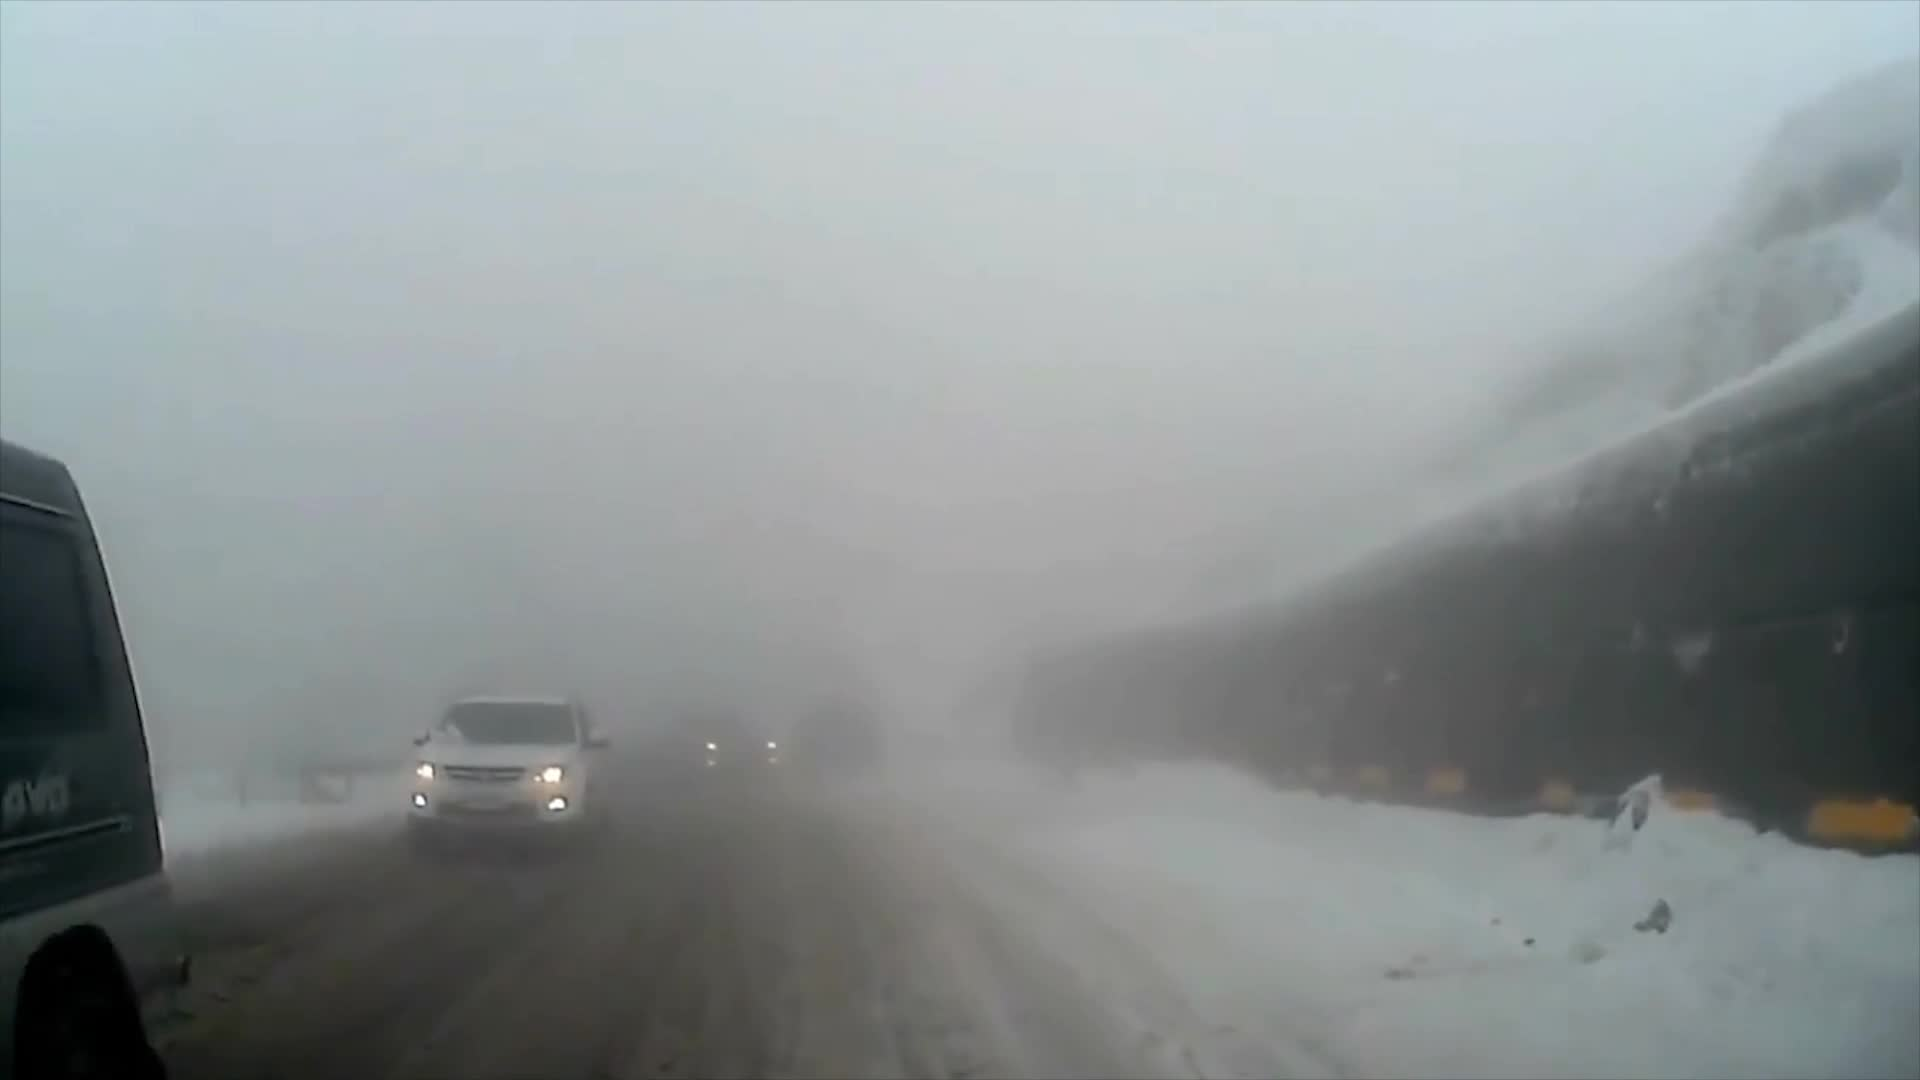vehicle: (0, 444, 194, 1080), (404, 690, 618, 858)
